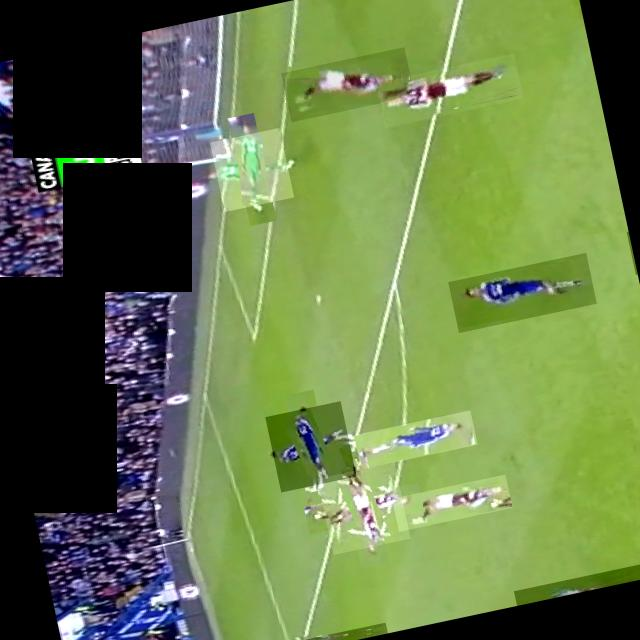goalkeeper: (210, 127, 294, 210)
soccer-player: (448, 252, 596, 332), (376, 52, 523, 126), (280, 45, 414, 120), (317, 461, 410, 554), (265, 400, 356, 490), (353, 409, 477, 468), (391, 473, 512, 530), (513, 558, 640, 605), (293, 621, 387, 640), (626, 230, 637, 273)
